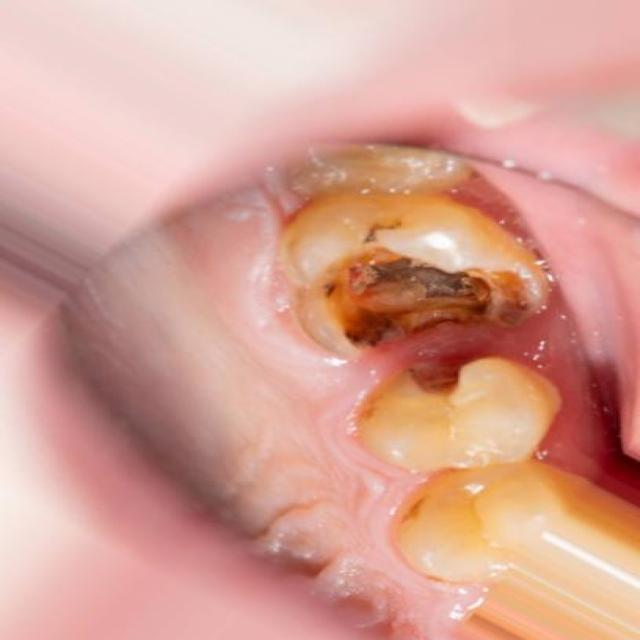caries: (273, 191, 557, 408)
